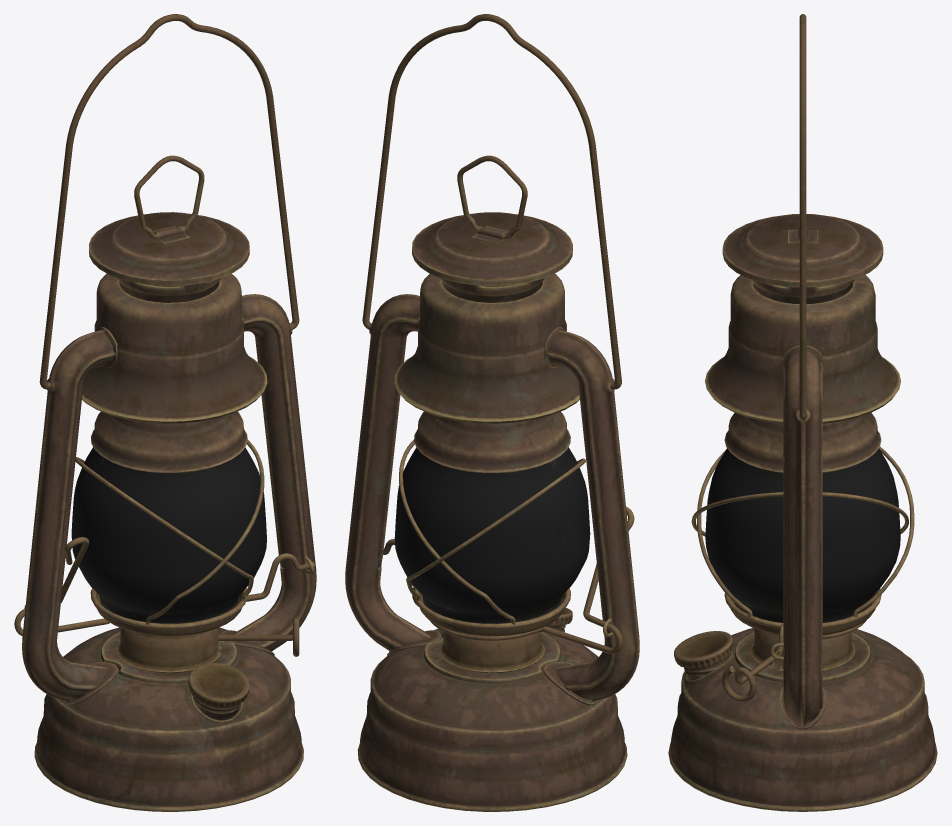
Rendered from hurricane-lantern.glb.
The picture shows the model from 3 angles, left to right: view 1: azimuth 30°, elevation 25°; view 2: azimuth 150°, elevation 25°; view 3: azimuth 270°, elevation 25°; orthographic projection.
Visible parts, largest first — view 1: Lantern_01, Lantern_01_glass; view 2: Lantern_01, Lantern_01_glass; view 3: Lantern_01, Lantern_01_glass.
Boxes of the visible parts, x1=… form: Lantern_01: x1=14, y1=14, x2=316, y2=811; Lantern_01_glass: x1=71, y1=447, x2=266, y2=623; Lantern_01: x1=345, y1=14, x2=639, y2=811; Lantern_01_glass: x1=394, y1=447, x2=590, y2=623; Lantern_01: x1=668, y1=14, x2=937, y2=811; Lantern_01_glass: x1=705, y1=448, x2=900, y2=622.
Bounding box in the file's own units: 0.1221 × 0.2942 × 0.0972.
Materials: 2 (2 with a texture image).
